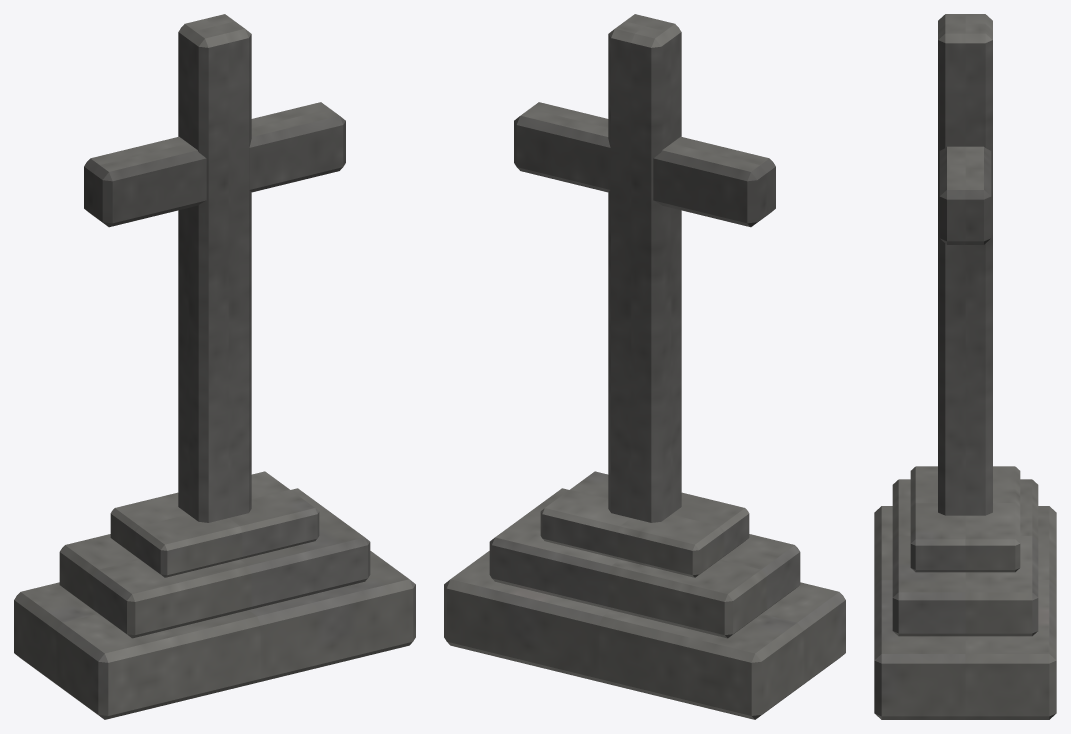
The model's file is pr_grave2.glb.
3 renders of one model, left to right at view 1: azimuth 30°, elevation 25°; view 2: azimuth 150°, elevation 25°; view 3: azimuth 270°, elevation 25°, orthographic.
Parts seen in each view (by area): view 1: pr_grave2; view 2: pr_grave2; view 3: pr_grave2.
Part boxes in pixels (x1=…): pr_grave2: x1=14, y1=14, x2=415, y2=719; pr_grave2: x1=444, y1=14, x2=845, y2=719; pr_grave2: x1=874, y1=14, x2=1056, y2=719.
Size of the model in its own units: 0.6 by 1.13 by 0.3.
Materials: 1 (1 with a texture image).
